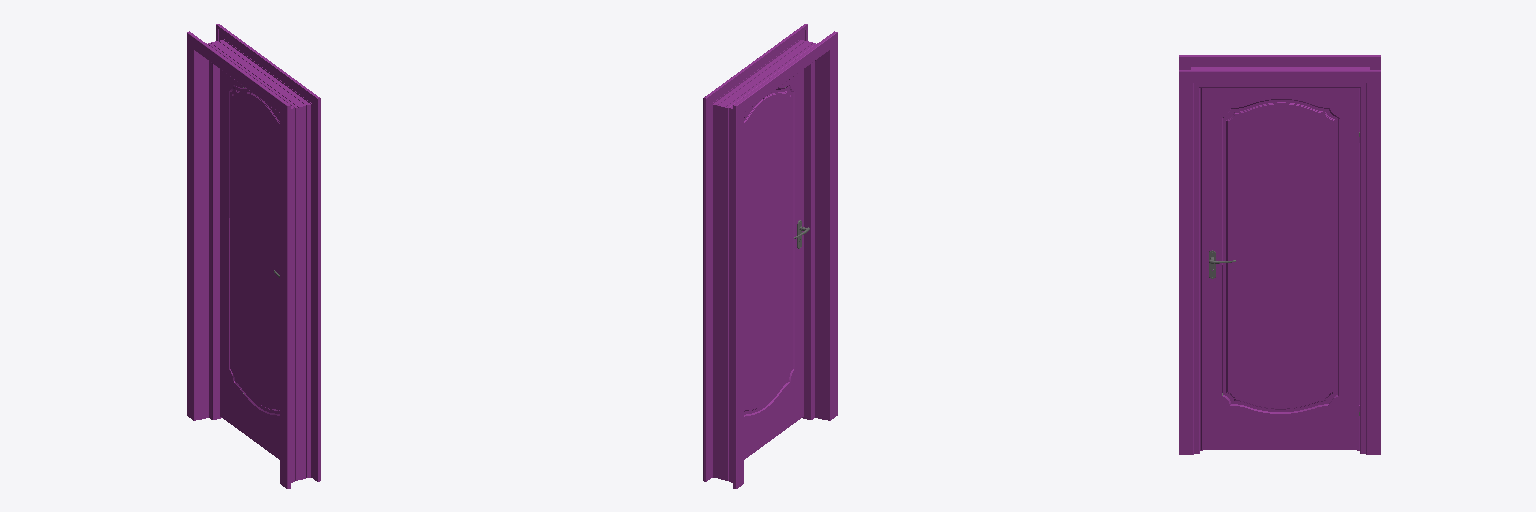
Rendered from door02.obj.
3 renders of one model, left to right at view 1: azimuth 30°, elevation 25°; view 2: azimuth 150°, elevation 25°; view 3: azimuth 270°, elevation 25°, orthographic.
Parts seen in each view (by area): view 1: Object.15, Object.13, Object.14, Object.3; view 2: Object.15, Object.13, Object.14, Object.5, Object.3; view 3: Object.9, Object.15, Object.14, Object.11, Object.6.
Boxes of the visible parts, <box> form: Object.15: <box>187,24,320,488</box>; Object.13: <box>232,92,279,409</box>; Object.14: <box>220,69,279,459</box>; Object.3: <box>230,86,279,413</box>; Object.15: <box>703,24,837,488</box>; Object.13: <box>744,92,791,410</box>; Object.14: <box>744,69,803,459</box>; Object.5: <box>744,84,794,416</box>; Object.3: <box>744,86,792,414</box>; Object.9: <box>1228,104,1333,408</box>; Object.15: <box>1179,55,1380,454</box>; Object.14: <box>1201,88,1358,449</box>; Object.11: <box>1223,100,1337,411</box>; Object.6: <box>1222,99,1339,413</box>.
Bounding box in the file's own units: 8.91 × 84.96 × 40.72.